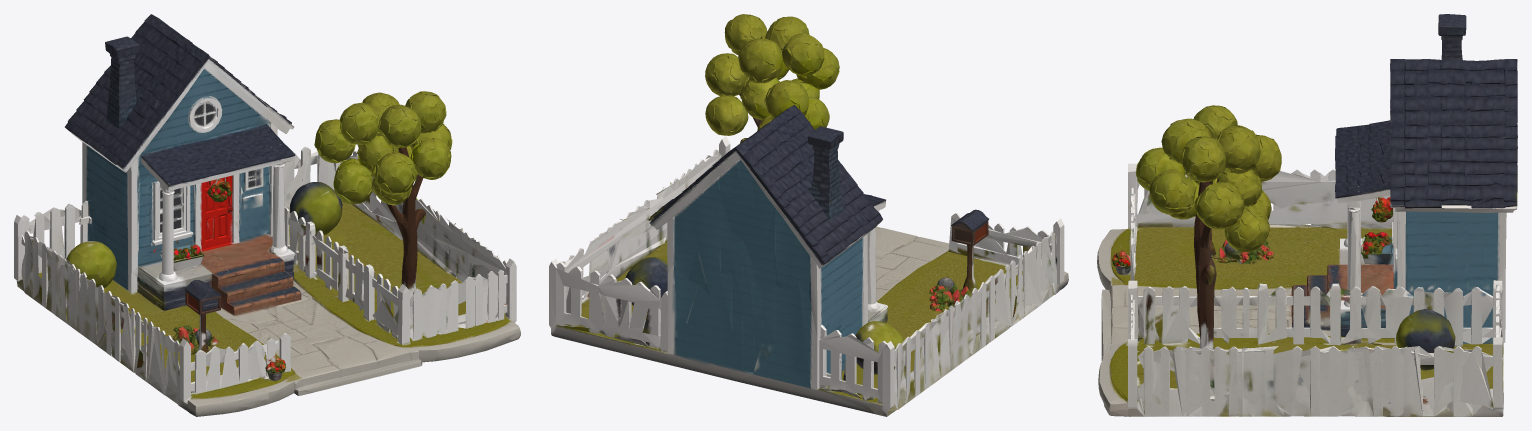
File: a1_main_house.glb
3 renders of one model, left to right at view 1: azimuth 30°, elevation 25°; view 2: azimuth 150°, elevation 25°; view 3: azimuth 270°, elevation 25°, orthographic. The views are drawn at different scales.
Size of the model in its own units: 1.9 by 1.32 by 1.89.
1 material, 1 textured.
